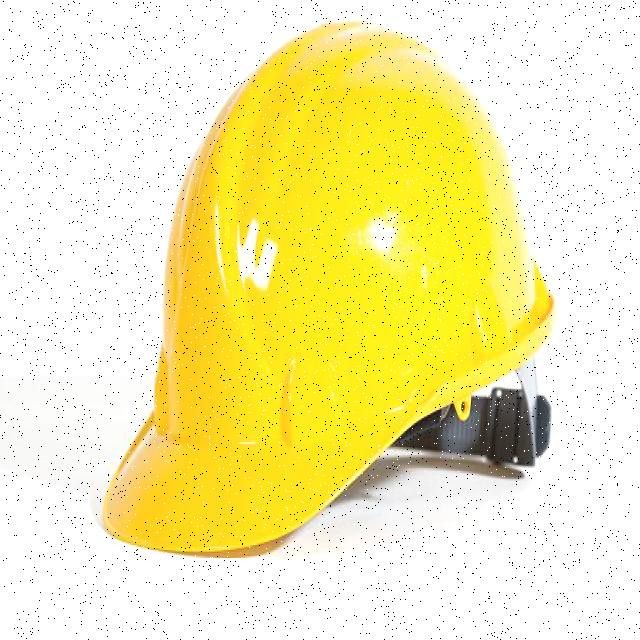with-helmet: (101, 19, 566, 582)
